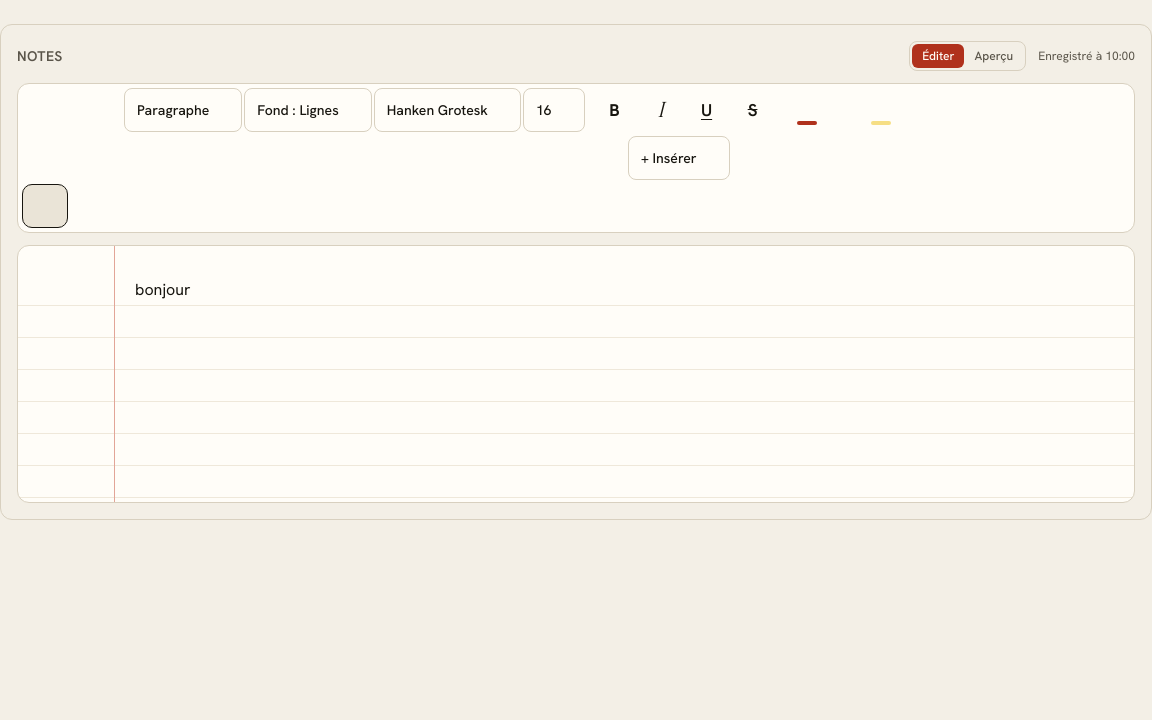
Test case: FormattingToolbar (YC-41) › style menu › moves with the arrows, and Échap closes it with the focus back on its button
expect the field named "Note de la vidéo" reads "bonjour": met, box [135, 279, 190, 300]
Click the button with aria-label "Style de paragraphe : Paragraphe" at (183,110), box [124, 88, 242, 132]
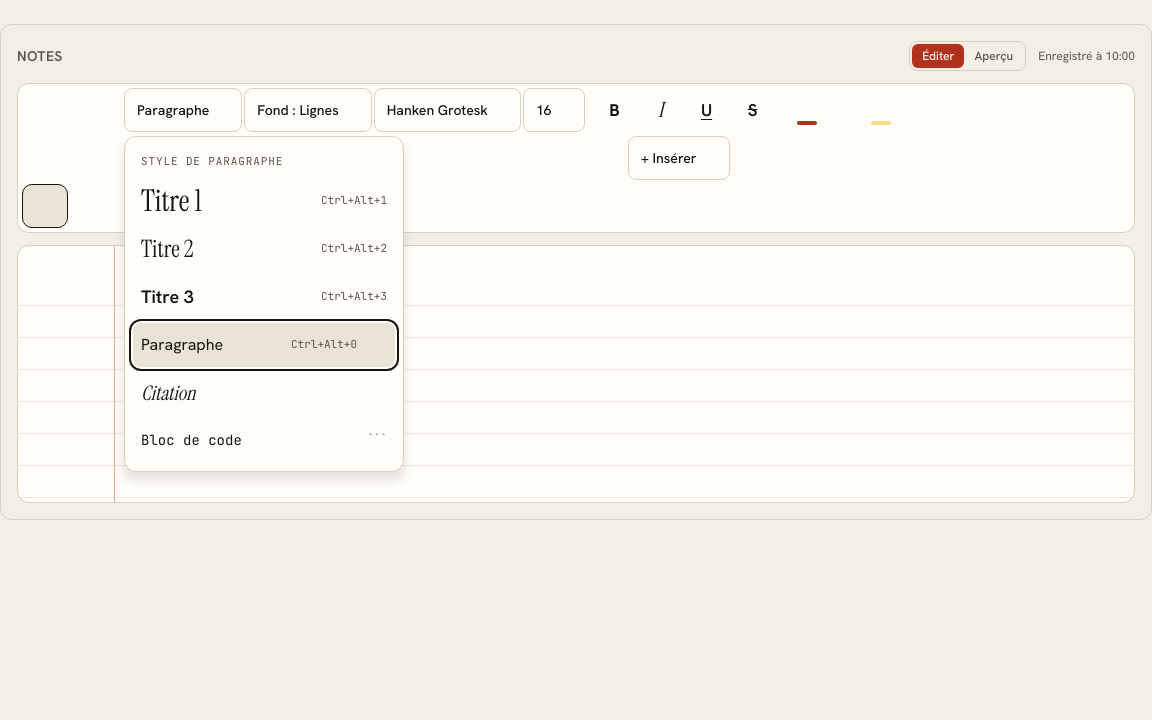
Press ArrowDown in the menu, box [124, 136, 404, 472]
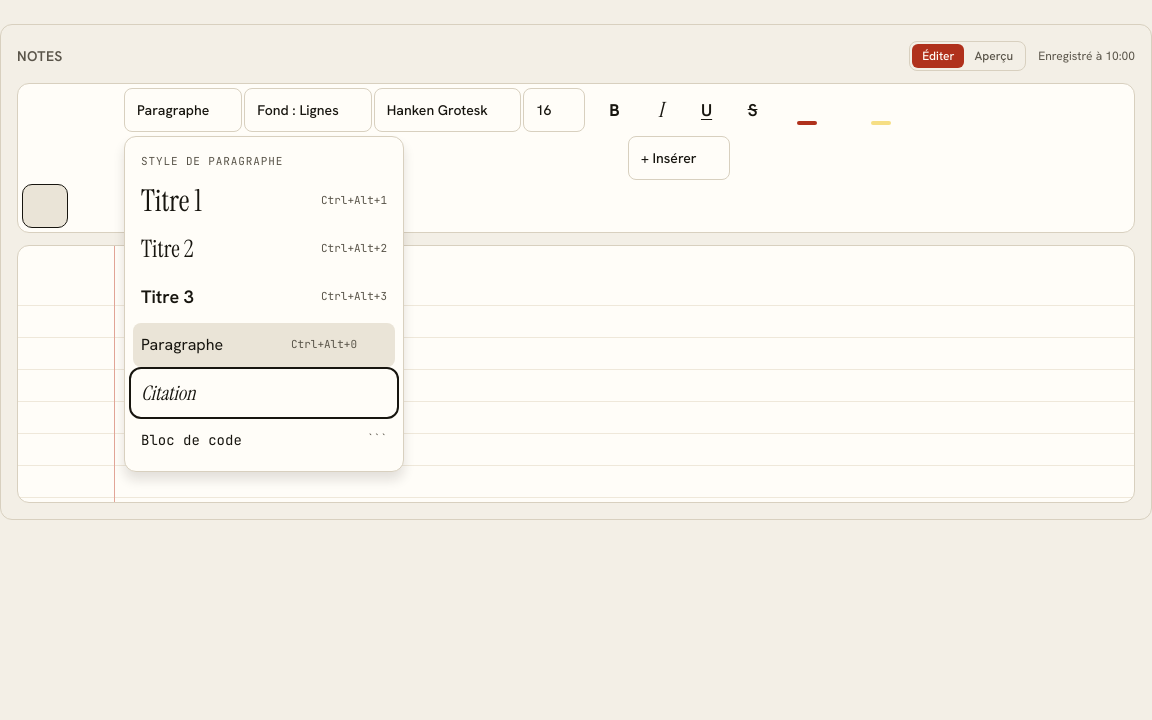
Press ArrowDown in the menu, box [124, 136, 404, 472]
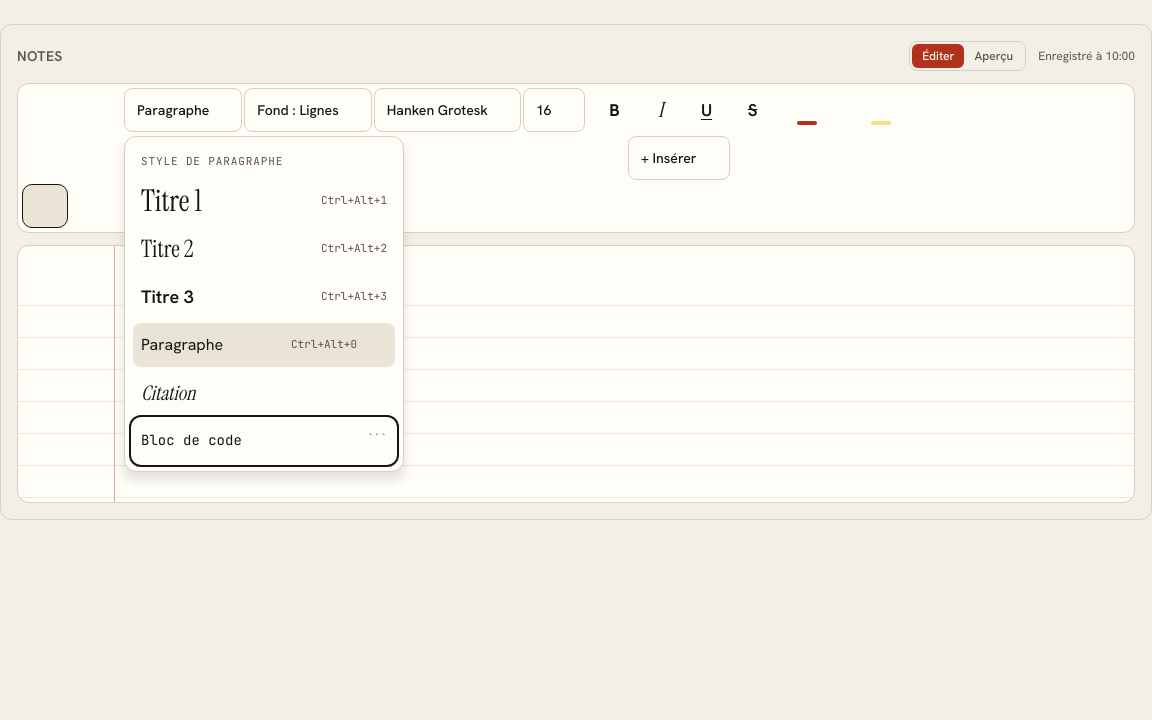
Press ArrowDown in the menu, box [124, 136, 404, 472]
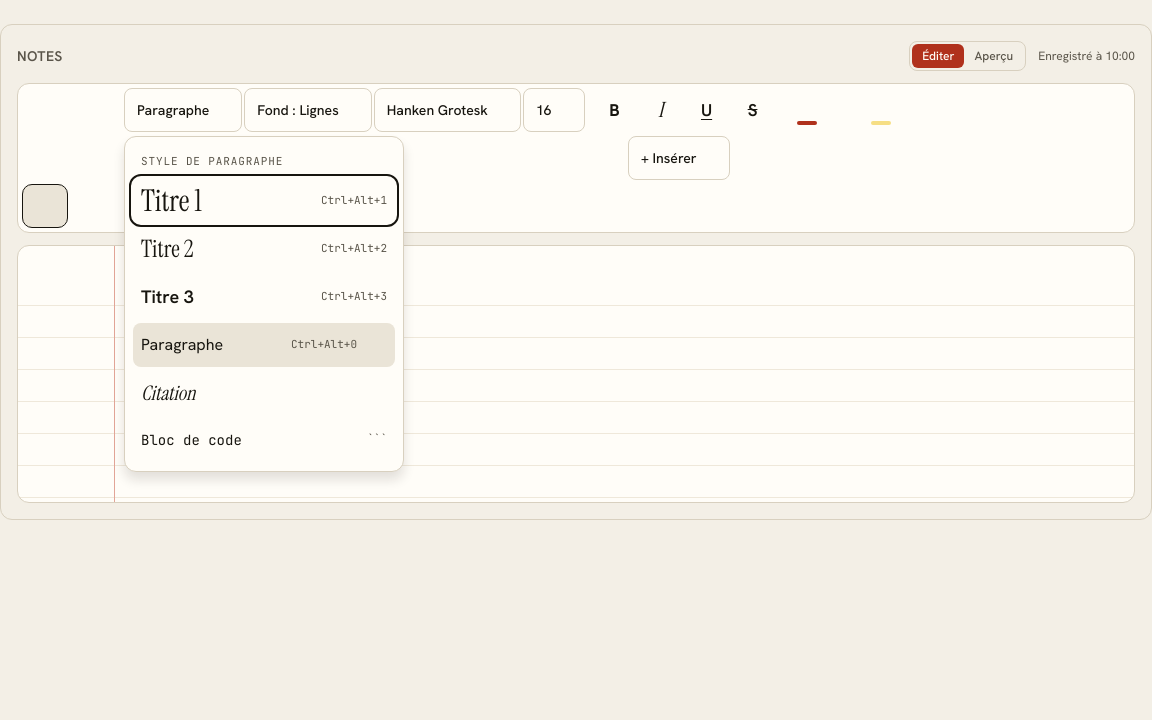
Press End in the menu, box [124, 136, 404, 472]
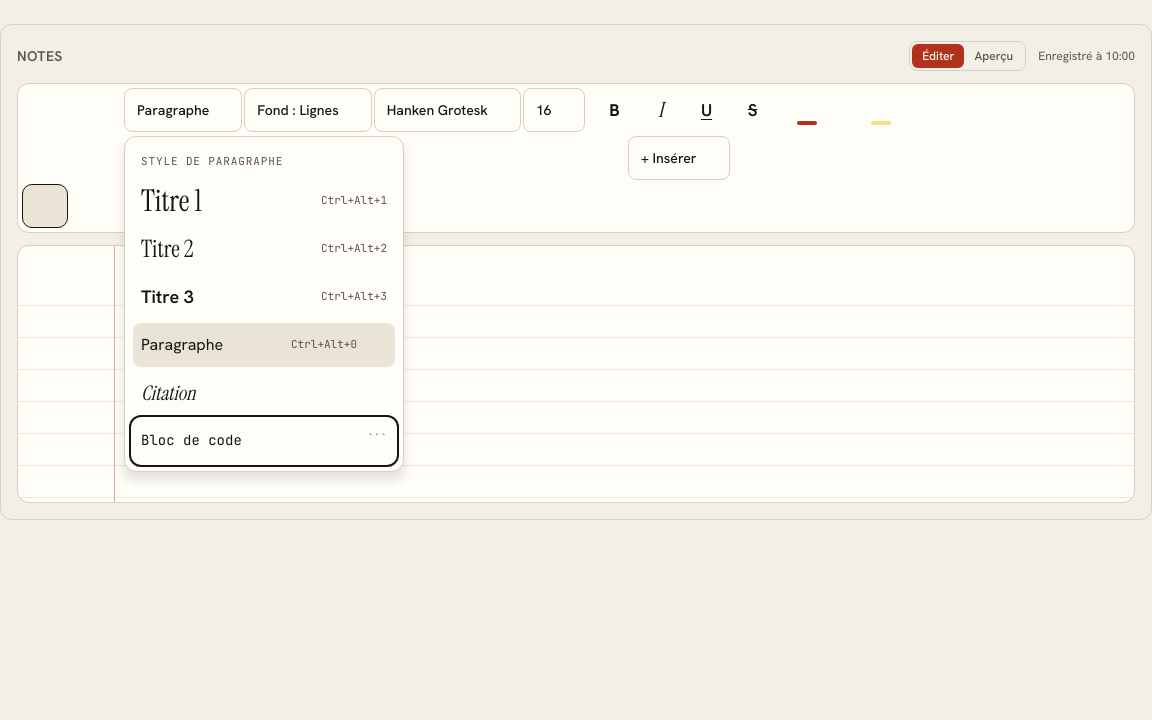
Press Escape in the menu, box [124, 136, 404, 472]
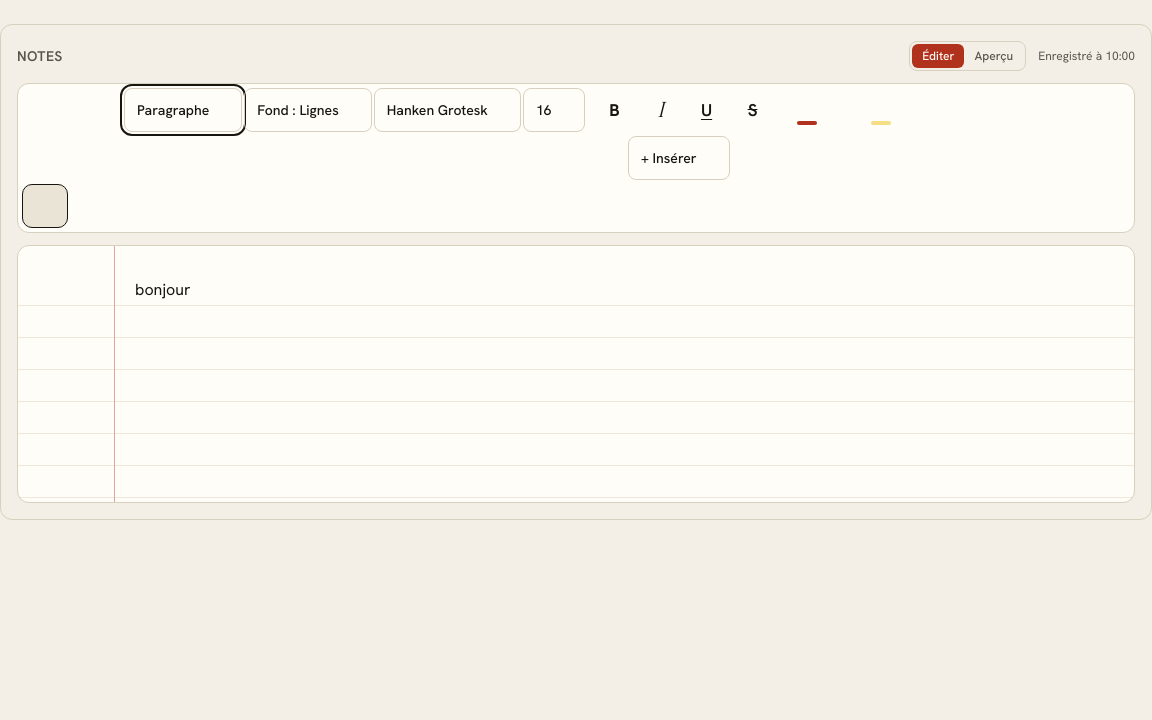
expect the menu is gone: met
